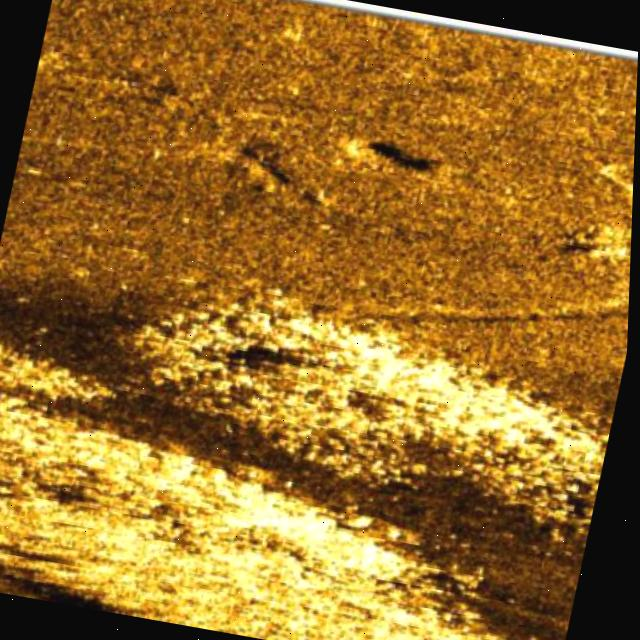bedrock group: (0, 385, 600, 640), (104, 259, 632, 526)
